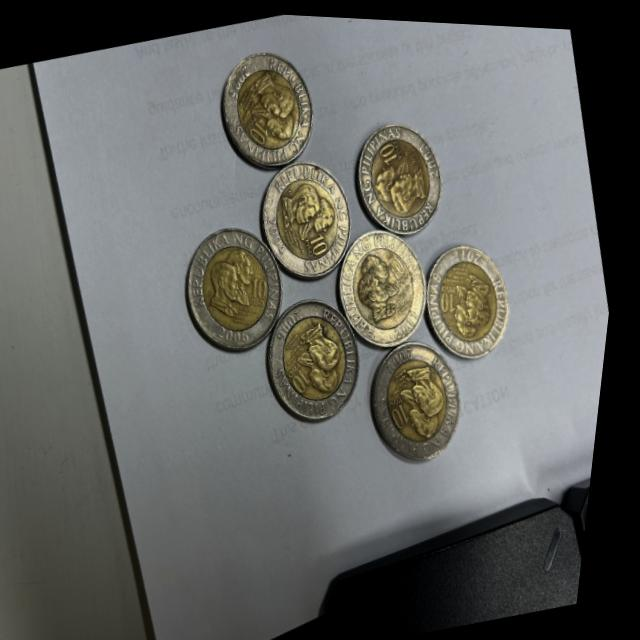10_Old_Front: (295, 359, 322, 393), (251, 269, 277, 302), (394, 396, 420, 428), (246, 115, 271, 143), (379, 134, 402, 162), (440, 282, 463, 310), (313, 226, 334, 252), (390, 250, 411, 276)
